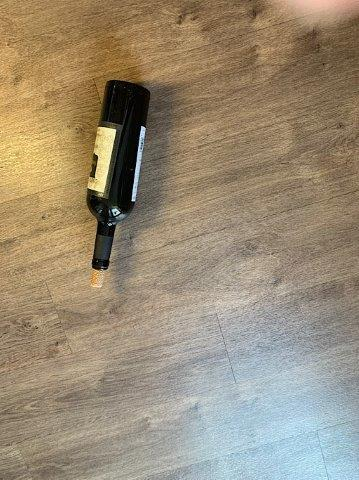botolkaca: (87, 81, 150, 285)
